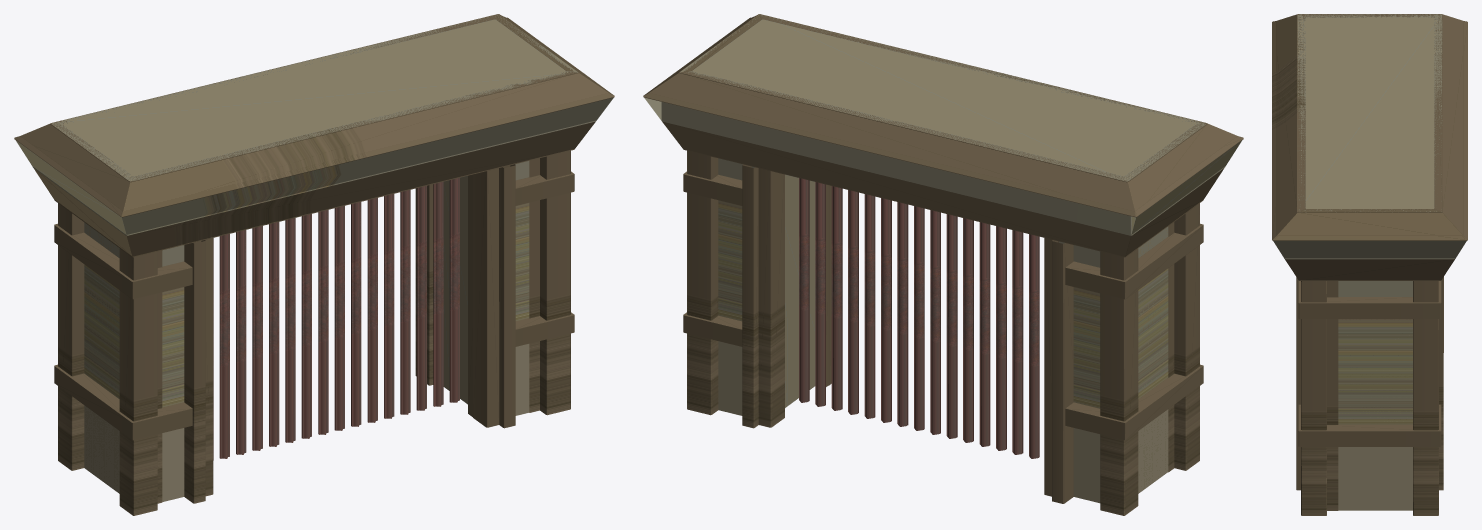
Rendered from objects_un_c01sluice01close.gltf.
3 renders of one model, left to right at view 1: azimuth 30°, elevation 25°; view 2: azimuth 150°, elevation 25°; view 3: azimuth 270°, elevation 25°, orthographic. The views are drawn at different scales.
Visible parts, largest first — view 1: um_objects_un_c01sluice01close_model_lod0Shape:objects_un_c0 (×4), um_objects_un_c01sluice01close_model_lod1Shape:objects_un_c0 (×4), um_objects_un_c01sluice01close_model_lod2Shape:objects_un_c0 (×2); view 2: um_objects_un_c01sluice01close_model_lod0Shape:objects_un_c0 (×4), um_objects_un_c01sluice01close_model_lod1Shape:objects_un_c0 (×4), um_objects_un_c01sluice01close_model_lod2Shape:objects_un_c0; view 3: um_objects_un_c01sluice01close_model_lod1Shape:objects_un_c0 (×3), um_objects_un_c01sluice01close_model_lod0Shape:objects_un_c0 (×3), um_objects_un_c01sluice01close_model_lod2Shape:objects_un_c0.
Boxes of the visible parts, box(x1,y1,x2,y2) form: um_objects_un_c01sluice01close_model_lod0Shape:objects_un_c0 (×4): box(14, 14, 614, 515); um_objects_un_c01sluice01close_model_lod1Shape:objects_un_c0 (×4): box(19, 14, 609, 503); um_objects_un_c01sluice01close_model_lod2Shape:objects_un_c0 (×2): box(16, 97, 613, 492); um_objects_un_c01sluice01close_model_lod0Shape:objects_un_c0 (×4): box(643, 14, 1243, 515); um_objects_un_c01sluice01close_model_lod1Shape:objects_un_c0 (×4): box(648, 14, 1238, 472); um_objects_un_c01sluice01close_model_lod2Shape:objects_un_c0: box(644, 97, 1241, 492); um_objects_un_c01sluice01close_model_lod1Shape:objects_un_c0 (×3): box(1275, 14, 1464, 510); um_objects_un_c01sluice01close_model_lod0Shape:objects_un_c0 (×3): box(1272, 14, 1467, 515); um_objects_un_c01sluice01close_model_lod2Shape:objects_un_c0: box(1273, 240, 1466, 510).
Size of the model in its own units: 60.12 by 39.2 by 22.75.
Materials: 4 (4 with a texture image).
